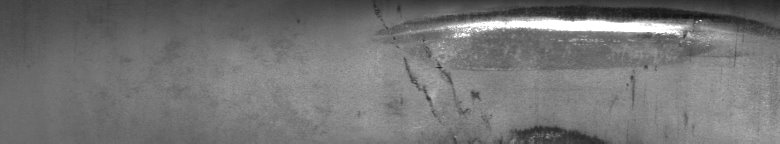ke: (373, 4, 776, 136)
